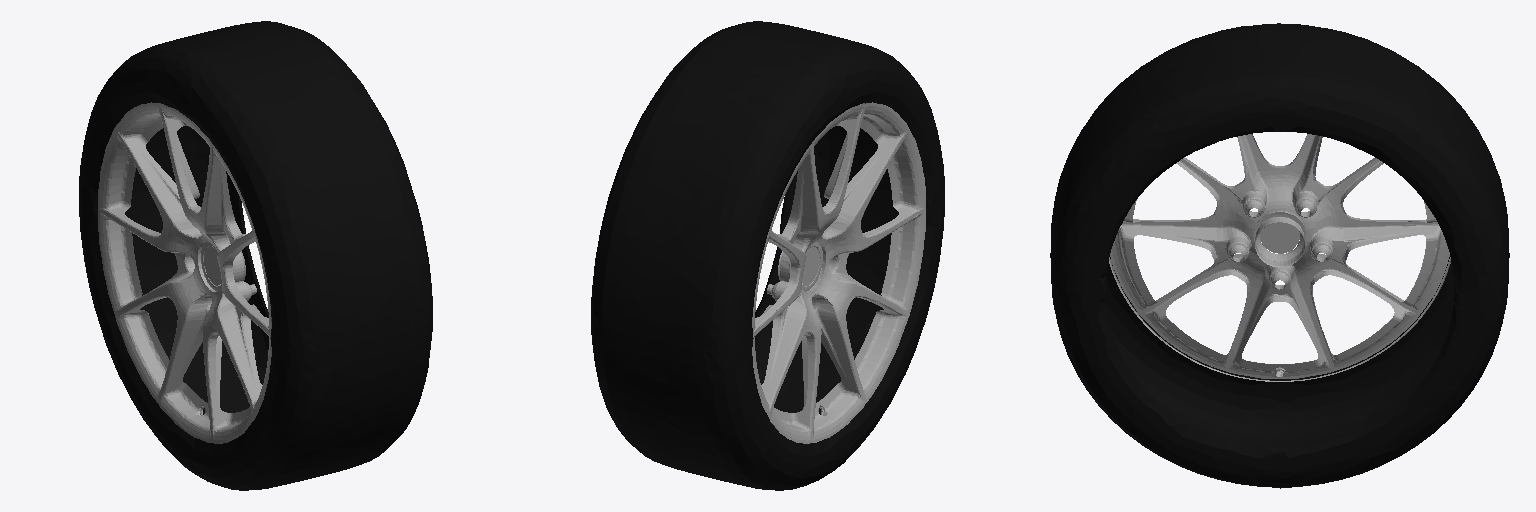
File: rad_hr.obj
3 renders of one model, left to right at view 1: azimuth 30°, elevation 25°; view 2: azimuth 150°, elevation 25°; view 3: azimuth 270°, elevation 25°, orthographic.
Visible parts, largest first — view 1: reifen-hinten, felge-vorne; view 2: reifen-hinten, felge-vorne; view 3: reifen-hinten, felge-vorne.
Part boxes in pixels (bbox=[...]): reifen-hinten: bbox=[79, 21, 432, 490]; felge-vorne: bbox=[98, 102, 271, 443]; reifen-hinten: bbox=[591, 21, 944, 490]; felge-vorne: bbox=[752, 102, 925, 443]; reifen-hinten: bbox=[1050, 23, 1509, 488]; felge-vorne: bbox=[1109, 134, 1450, 381].
Bounding box in the file's own units: 246 × 653 × 653.